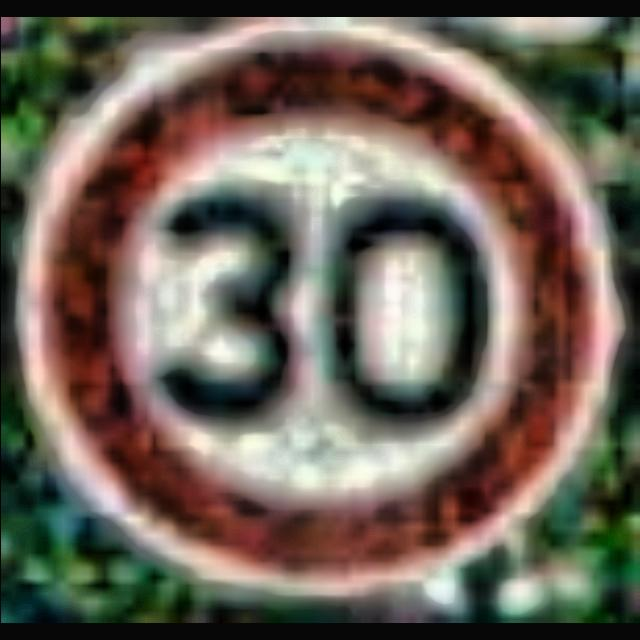speed_30: (12, 28, 604, 572)
